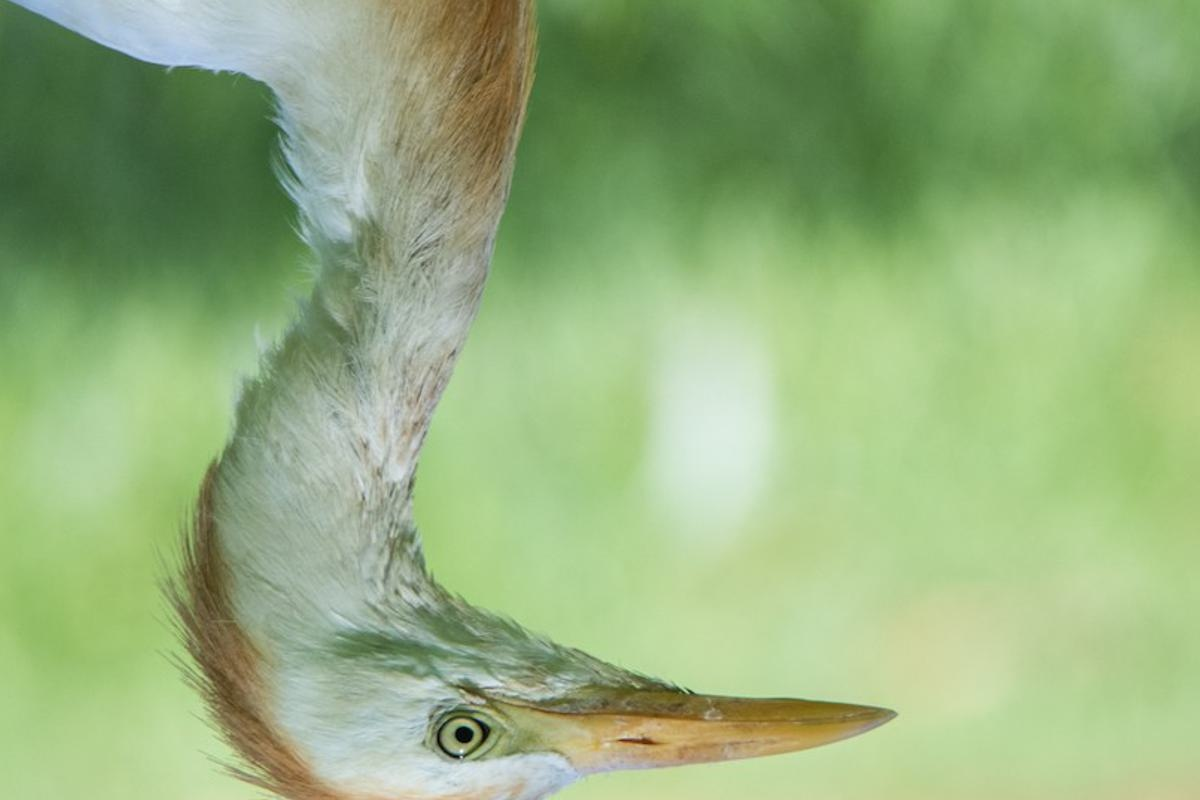egret: (93, 7, 897, 788)
